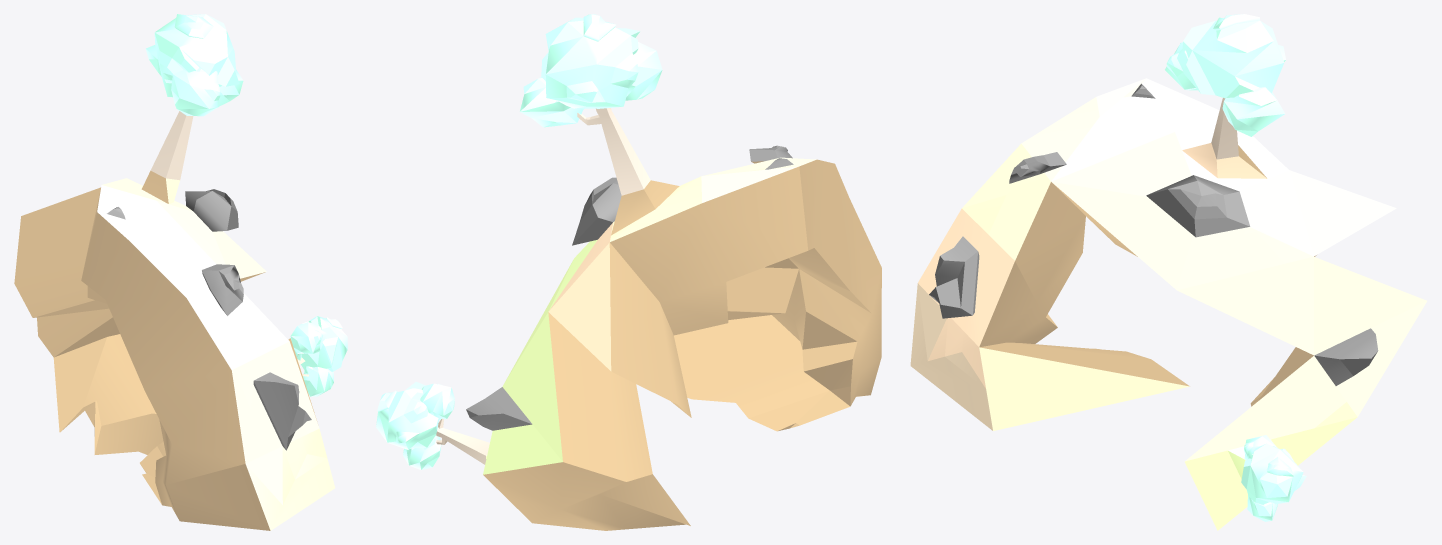
Rendered from chunk12.fbx.
3 renders of one model, left to right at view 1: azimuth 30°, elevation 25°; view 2: azimuth 150°, elevation 25°; view 3: azimuth 270°, elevation 25°, orthographic. The views are drawn at different scales.
Parts seen in each view (by area): view 1: chunk12; view 2: chunk12; view 3: chunk12.
Part boxes in pixels (<box>): chunk12: <box>14,14,347,530</box>; chunk12: <box>376,14,881,530</box>; chunk12: <box>910,14,1426,530</box>.
Size of the model in its own units: 6.77 by 9.47 by 9.14.
